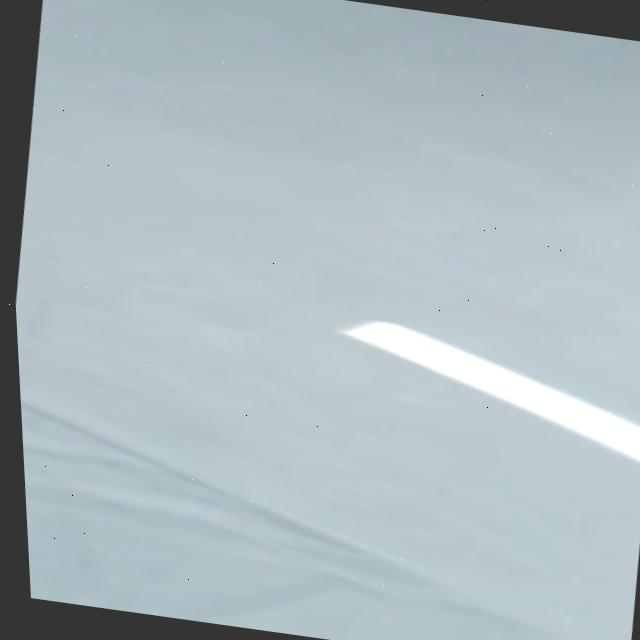center: (339, 322, 640, 464)
